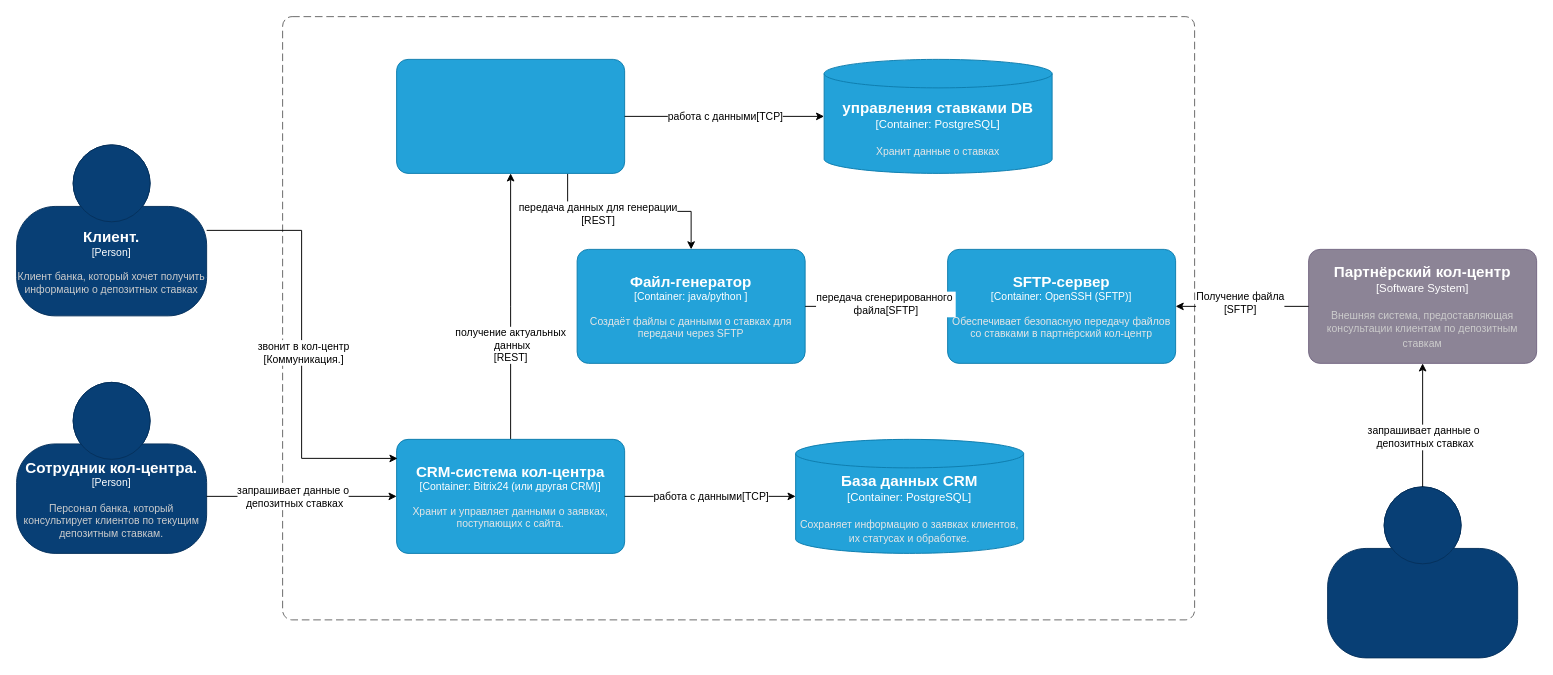
This 1553x675 diagram has some shape labels left out. Here are the shapes that lost their labels. From the top down, the box of each, then its label:
(396, 58, 625, 173): Сервис управления ставками [Container: Spring Boot.] Управляет данными о ставках
(282, 16, 1195, 620): Сервисы управления ставками и экспорта данных [ВМ]
(1327, 486, 1518, 658): Сотрудник кол-центра. [Person] Внешняя система, обрабатывающая звонки клиентов
